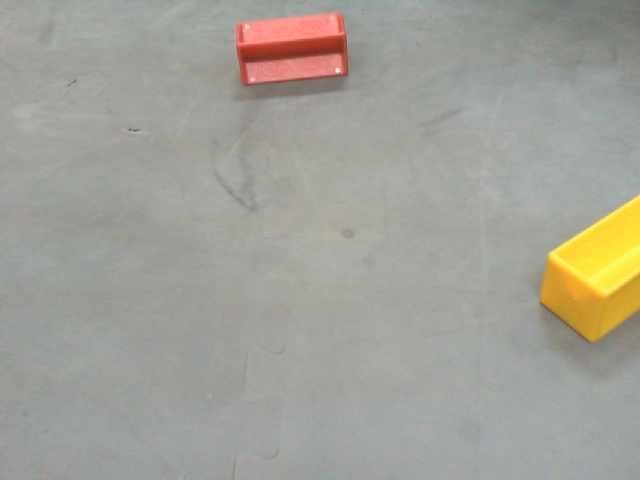RedSample: (231, 12, 347, 90)
YellowSample: (540, 196, 640, 342)
